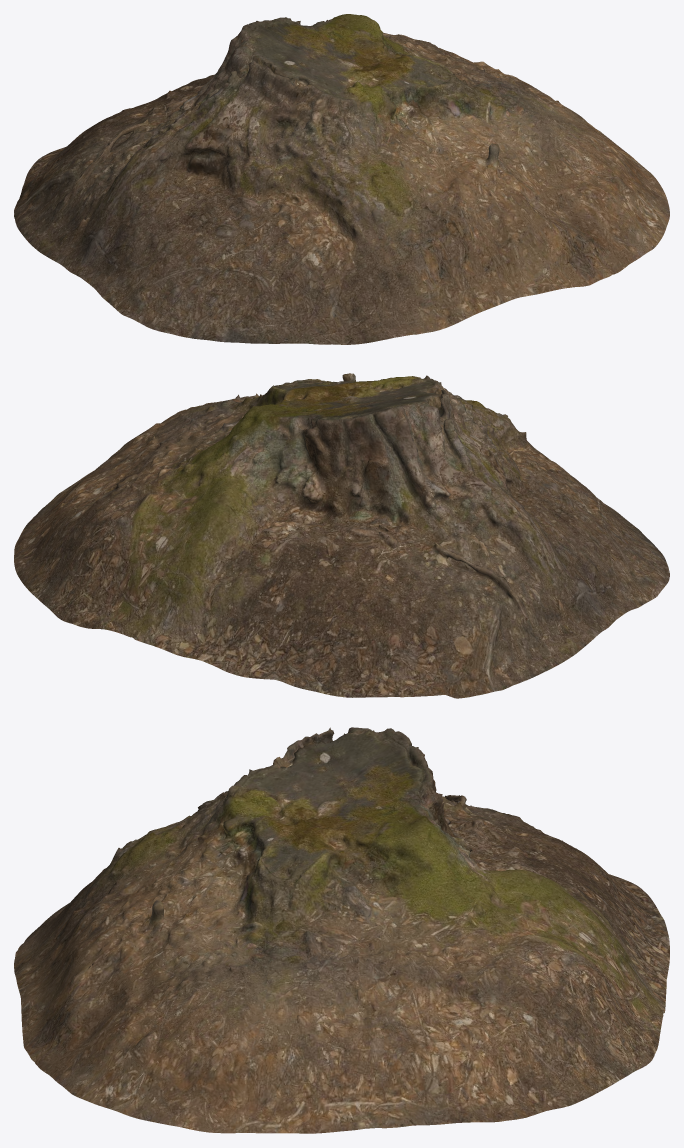
File: tree_stump_02.glb
3 views of the same model, one above another, from view 1: azimuth 30°, elevation 25°; view 2: azimuth 150°, elevation 25°; view 3: azimuth 270°, elevation 25° (orthographic). The views are drawn at different scales.
Parts seen in each view (by area): view 1: tree_stump_02; view 2: tree_stump_02; view 3: tree_stump_02.
Part boxes in pixels (x1=…): tree_stump_02: x1=14, y1=14, x2=669, y2=344; tree_stump_02: x1=14, y1=373, x2=669, y2=698; tree_stump_02: x1=14, y1=727, x2=669, y2=1133.
Bounding box in the file's own units: 1.52 × 0.5221 × 1.39.
1 material, 1 textured.
